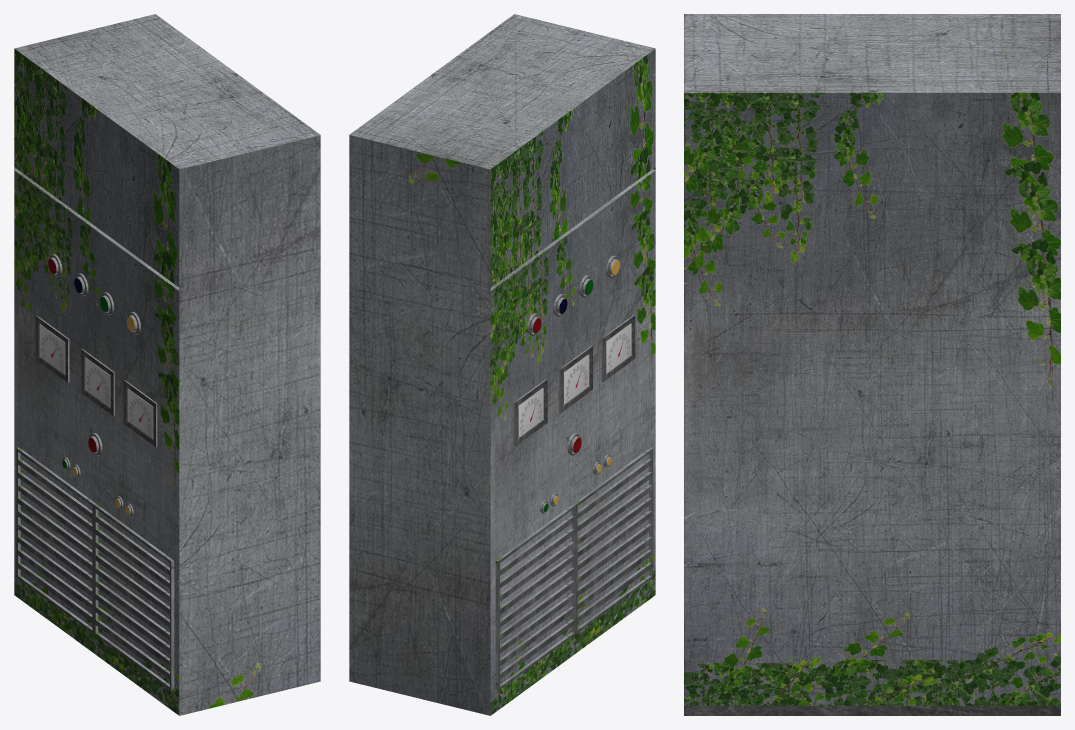
The model's file is gen1.fbx.
The picture shows the model from 3 angles, left to right: view 1: azimuth 30°, elevation 25°; view 2: azimuth 150°, elevation 25°; view 3: azimuth 270°, elevation 25°; orthographic projection. The views are drawn at different scales.
Parts seen in each view (by area): view 1: pCube55, pasted__pPlane46, pasted__pPlane45, pCube56, pCube57, pCube58; view 2: pCube55, pasted__pPlane45, pasted__pPlane46, pCube57, pCube56, pCube58; view 3: pCube55.
Part boxes in pixels (x1,y1,x2,y2): pCube55: (14, 14, 320, 715); pasted__pPlane46: (94, 504, 174, 690); pasted__pPlane45: (16, 447, 95, 633); pCube56: (35, 315, 69, 382); pCube57: (123, 380, 157, 447); pCube58: (81, 349, 114, 416); pCube55: (349, 14, 655, 715); pasted__pPlane45: (495, 504, 575, 690); pasted__pPlane46: (573, 447, 653, 633); pCube57: (601, 314, 635, 381); pCube56: (513, 379, 547, 446); pCube58: (559, 345, 592, 413); pCube55: (684, 14, 1060, 715).
Size of the model in its own units: 74.11 by 265 by 145.
